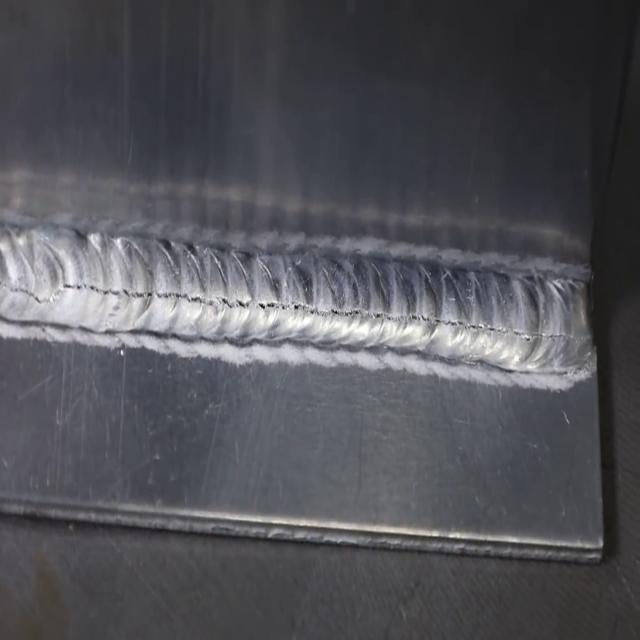Bad Weld: (0, 210, 586, 383)
Defect: (2, 250, 584, 346)
